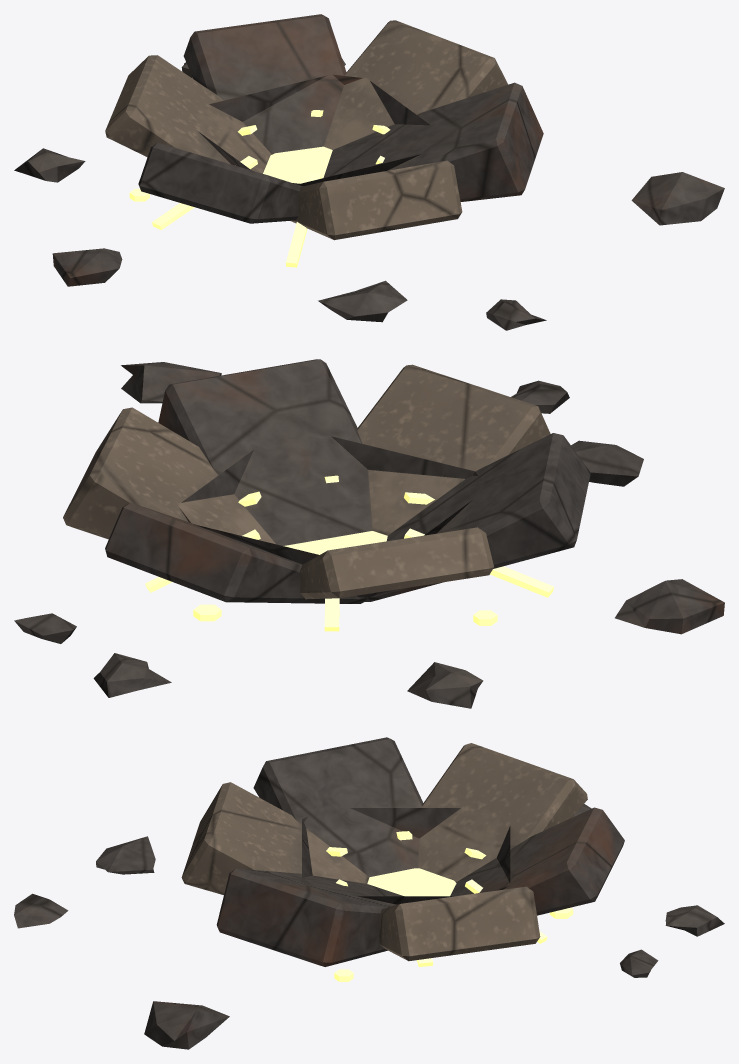
File: map.vent.glb
3 views of the same model, one above another, from view 1: azimuth 30°, elevation 25°; view 2: azimuth 150°, elevation 25°; view 3: azimuth 270°, elevation 25° (orthographic). The views are drawn at different scales.
Parts seen in each view (by area): view 1: vent; view 2: vent; view 3: vent.
Boxes of the visible parts, x1,y1,x2,y2 form: vent: (14, 14, 724, 330); vent: (14, 359, 724, 708); vent: (14, 737, 724, 1049).
Size of the model in its own units: 0.7841 by 0.1183 by 0.831.
Materials: 2 (1 with a texture image).
